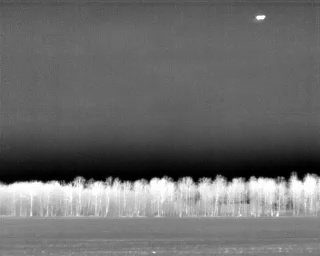DRONE: (251, 11, 269, 25)
